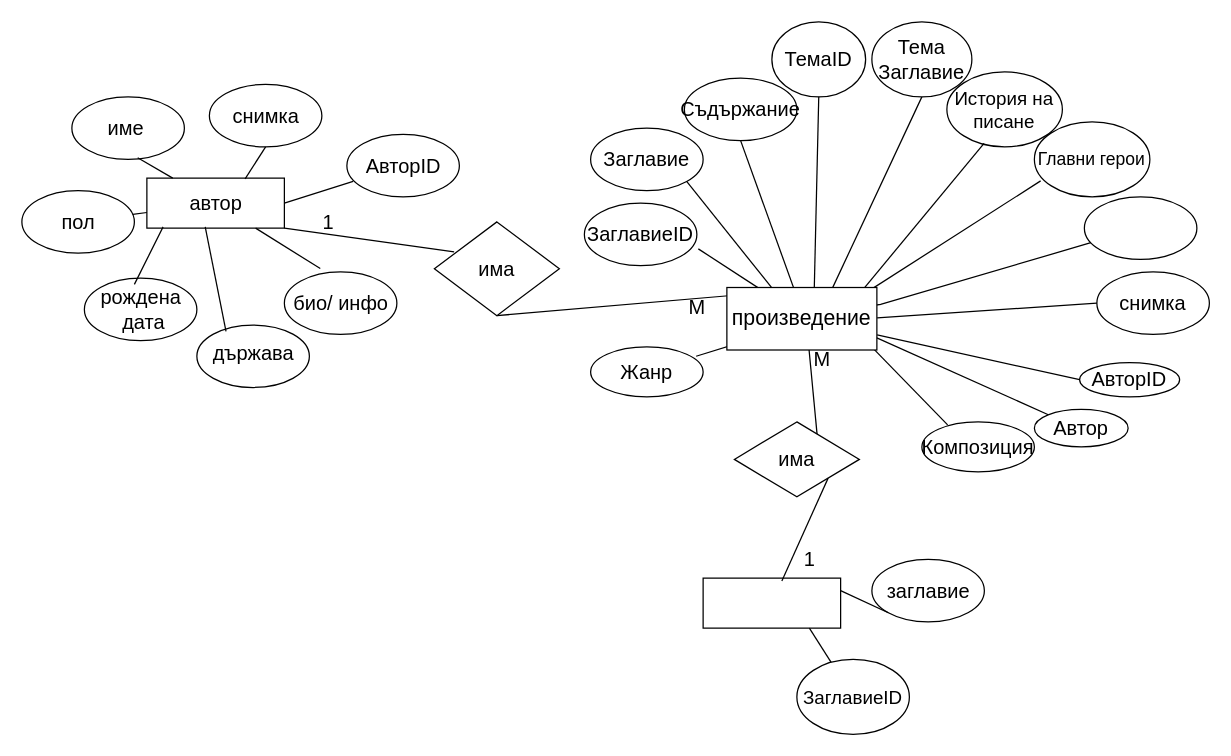
Some shapes in this 1231 by 756 pixel diagram are drawn without their labels. The shapes that lost their labels are listed below. From the top down, each one's centre as x and y in pixels, then its label:
At point (1140, 227): "тематика".
At point (771, 602): "тема".
